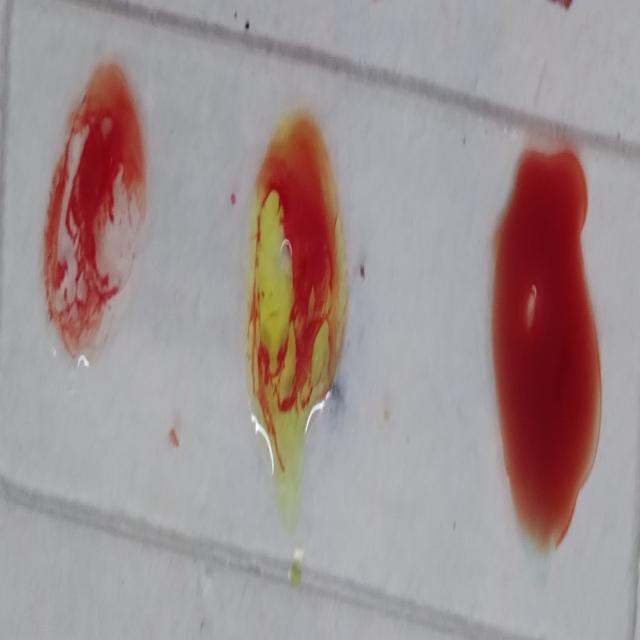B: (249, 108, 353, 476)
D: (46, 52, 148, 368)
